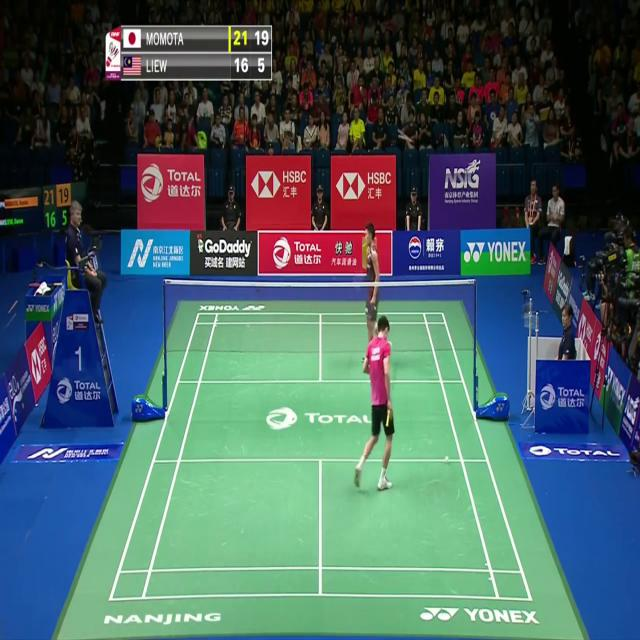Shuttlecock: (443, 453, 450, 464)
